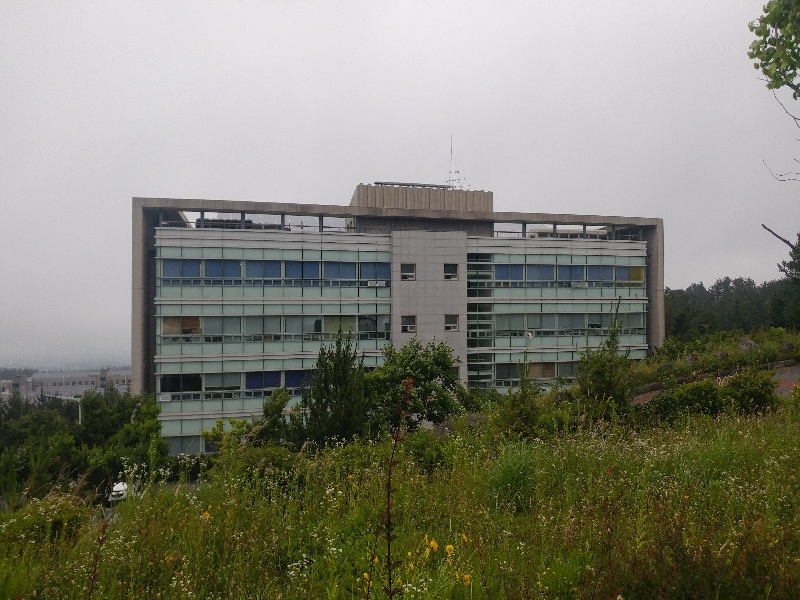College of Marine Science: (137, 163, 665, 422)
